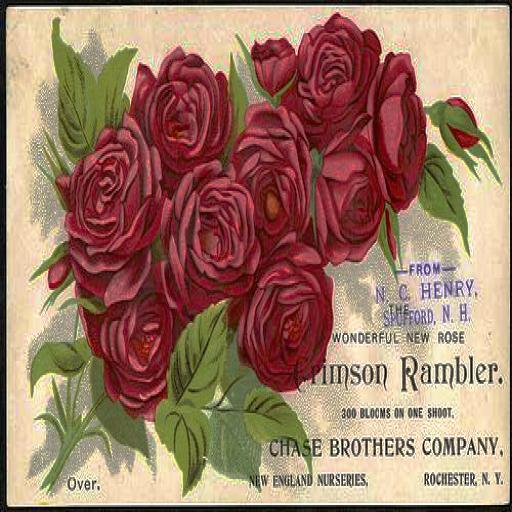rose: (82, 262, 184, 413), (61, 118, 173, 250), (161, 156, 258, 304), (240, 245, 332, 385), (136, 54, 233, 177), (236, 100, 312, 240), (293, 16, 380, 134), (371, 45, 430, 217), (319, 128, 389, 269), (253, 36, 296, 90)
